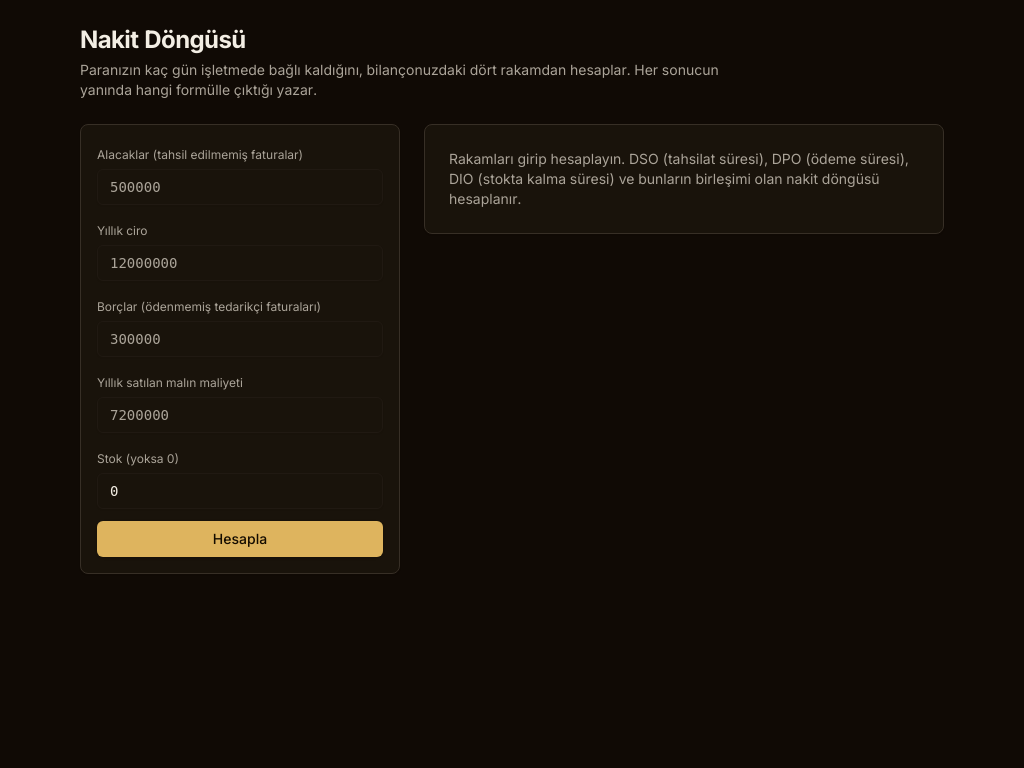
Test: Nakit Döngüsü › leaves a metric empty and names the missing input
Type "60000" into the number field labelled "Alacaklar (tahsil edilmemiş faturalar)" at (240, 187), box [97,169,383,205]
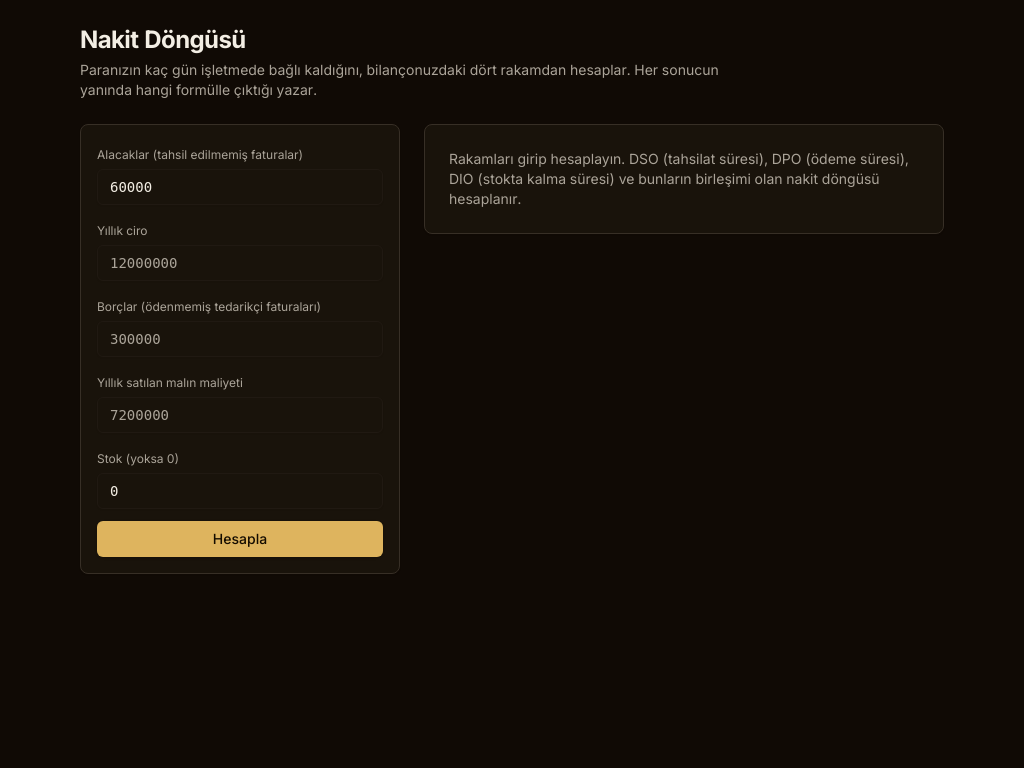
Type "365000" into the number field labelled "Yıllık ciro" at (240, 263), box [97,245,383,281]
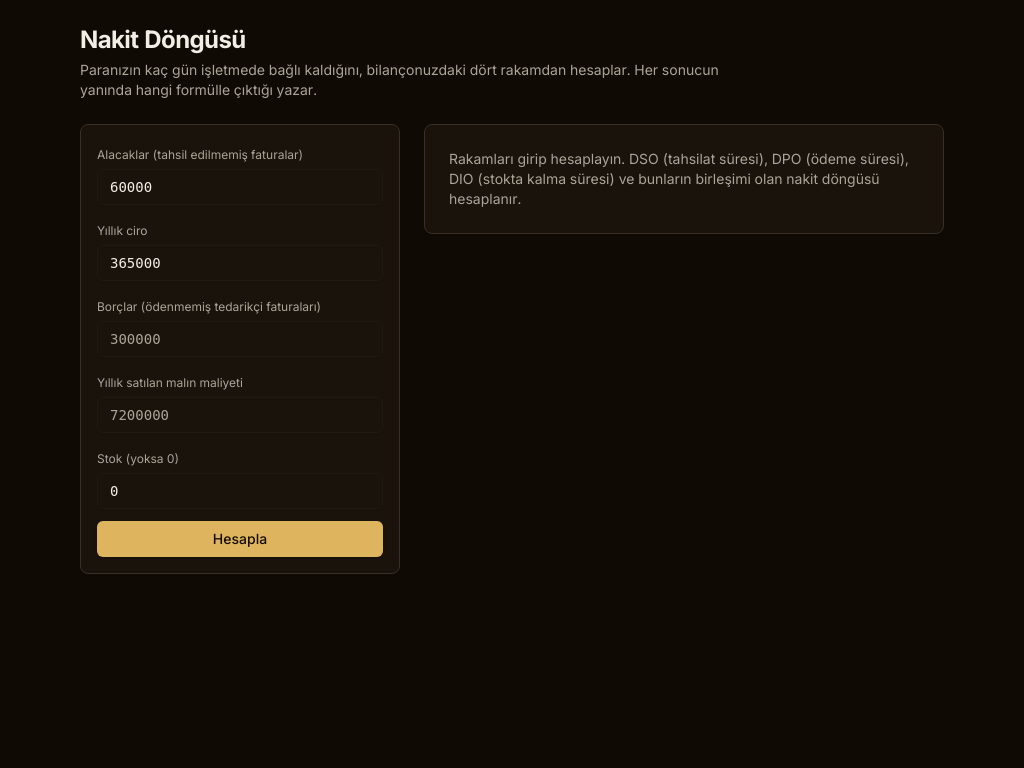
Click the button "Hesapla" at (240, 539), box [97,521,383,557]
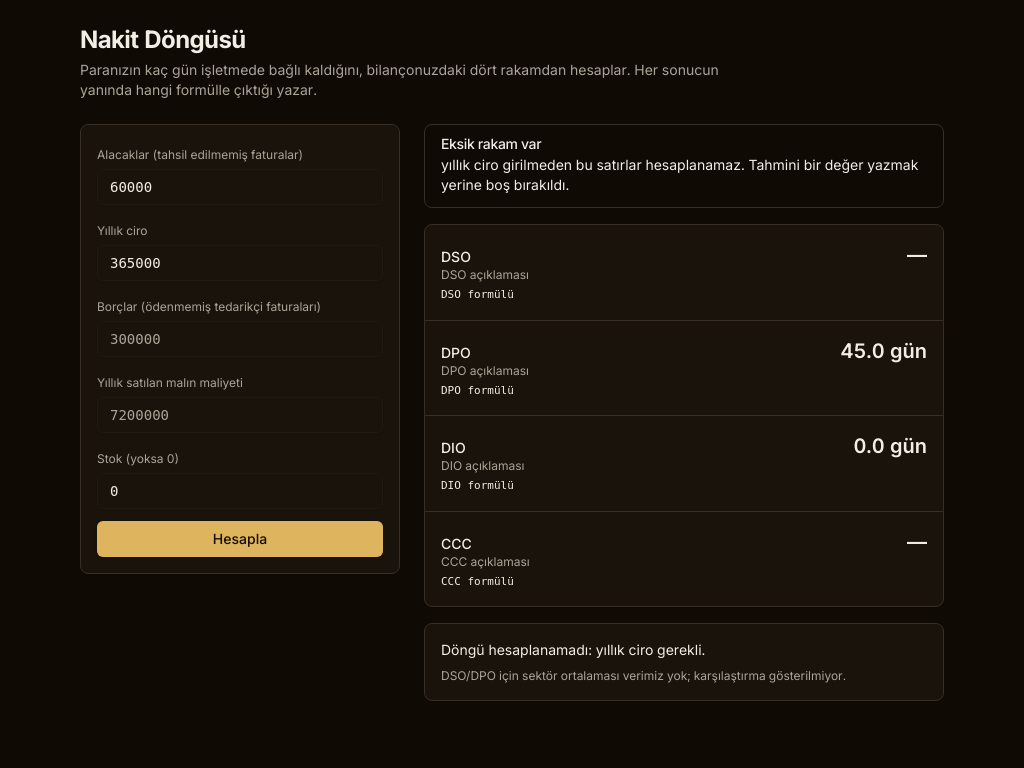
Check: the heading "Eksik rakam var" is shown, box [441,135,541,152]
Check: the text "yıllık ciro girilmeden" is shown, box [441,155,927,195]
Check: the text "—" is shown 2 times, box [907,241,927,269]; [907,528,927,556]
